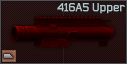HK 416A5 5.56x45 upper receiver: (0, 0, 127, 64)
